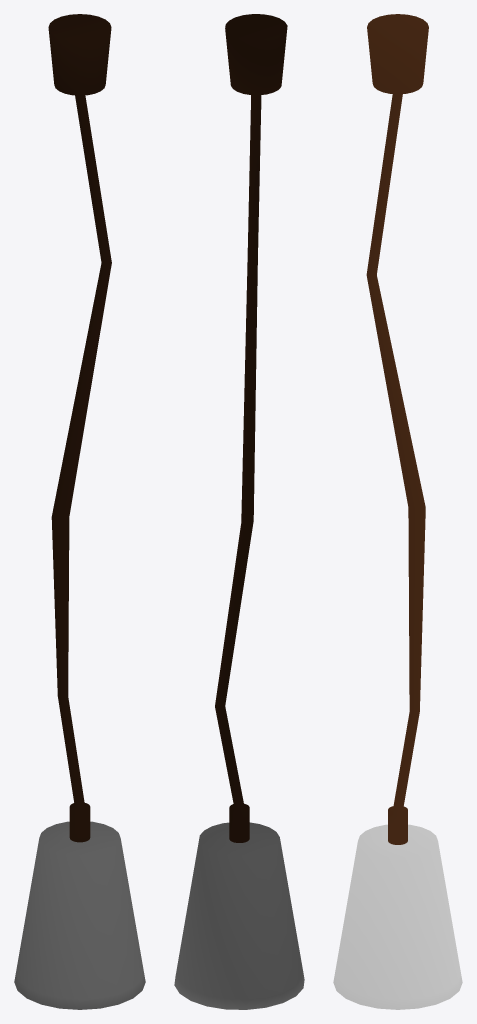
File: CeilingLight_bb574e91.obj
3 renders of one model, left to right at view 1: azimuth 90°, elevation 25°; view 2: azimuth 150°, elevation 25°; view 3: azimuth 270°, elevation 25°, orthographic.
Parts seen in each view (by area): view 1: CeilingLight_bb574e91; view 2: CeilingLight_bb574e91; view 3: CeilingLight_bb574e91.
Part boxes in pixels (x1,y1,x2,y2): CeilingLight_bb574e91: (14, 14, 145, 1009); CeilingLight_bb574e91: (174, 14, 304, 1009); CeilingLight_bb574e91: (333, 14, 462, 1009).
Size of the model in its own units: 0.1129 by 0.913 by 0.1129.
